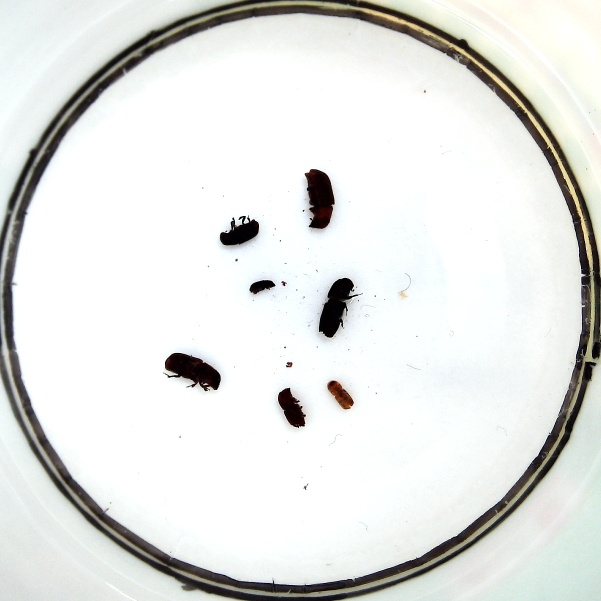acuminatus: (249, 280, 276, 293)
armandi: (219, 219, 259, 245)
boerner: (318, 277, 354, 338)
coleoptera: (327, 380, 354, 409)
leconte: (165, 353, 220, 390), (304, 169, 335, 228)
linnaeus: (278, 388, 306, 428)
